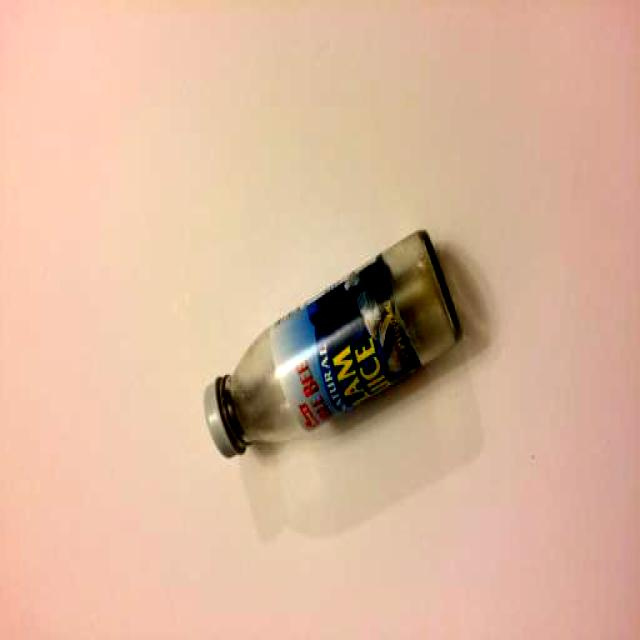Glass: (196, 221, 475, 469)
